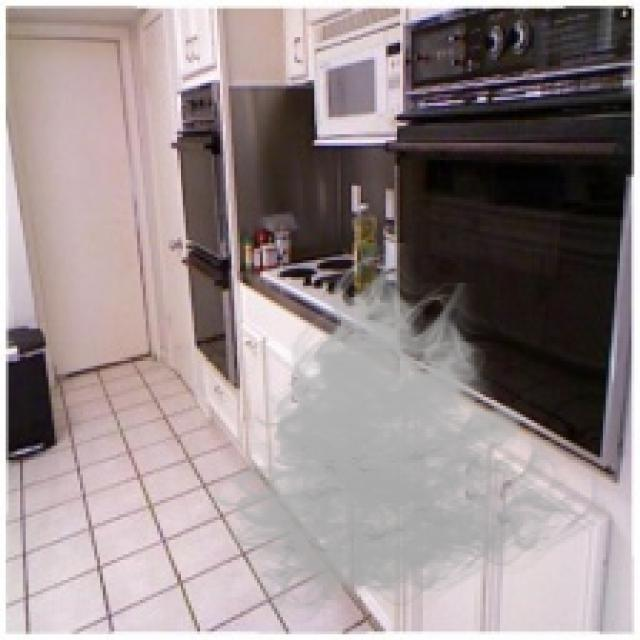Smoke: (197, 242, 614, 634)
